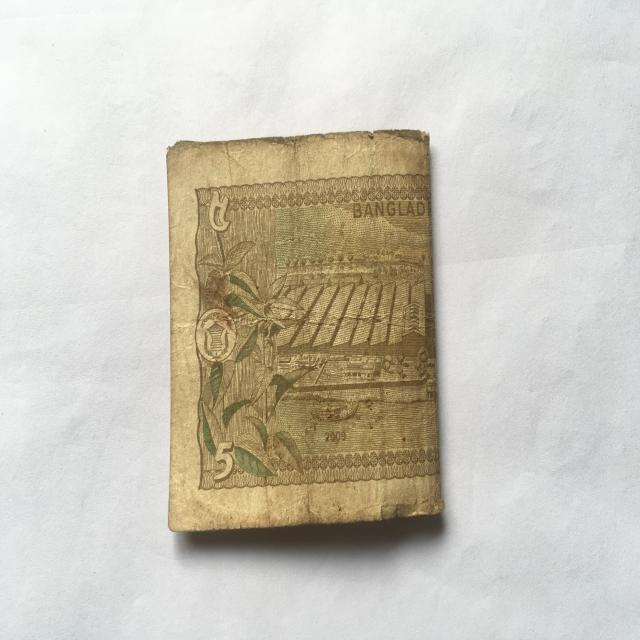Taka: (160, 127, 448, 525)
